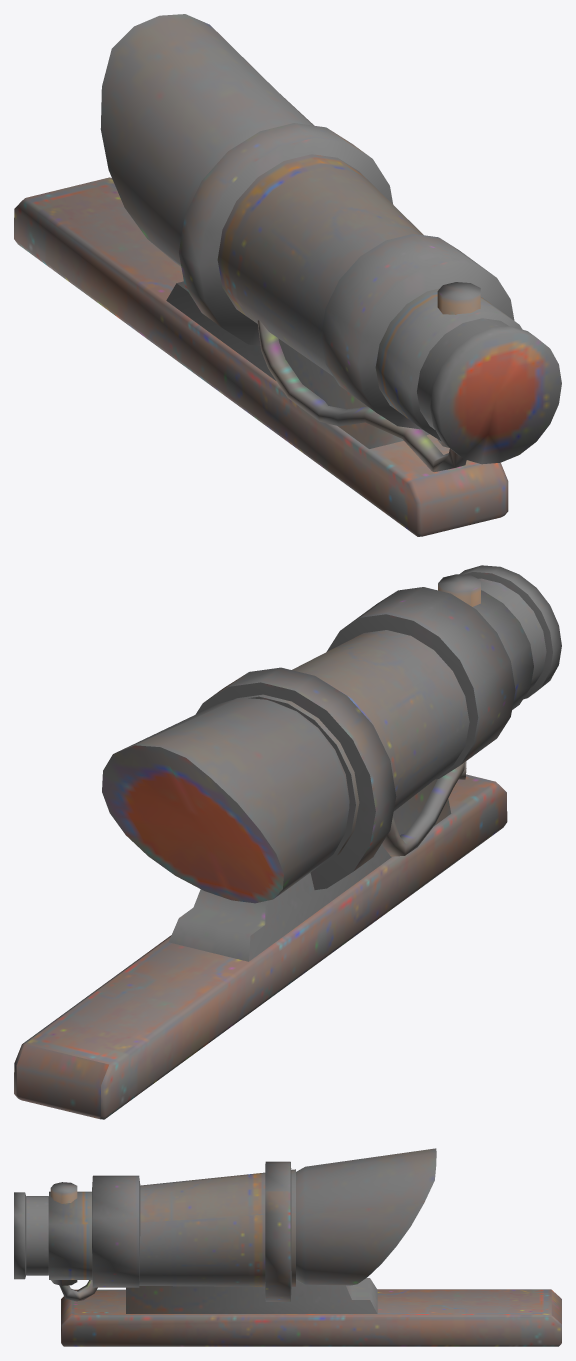
The model's file is sight5.obj.
3 views of the same model, one above another, from view 1: azimuth 30°, elevation 25°; view 2: azimuth 150°, elevation 25°; view 3: azimuth 270°, elevation 25° (orthographic). The views are drawn at different scales.
Parts seen in each view (by area): view 1: sight5; view 2: sight5; view 3: sight5.
Boxes of the visible parts, left/top/right/bottom form: sight5: left=14, top=14, right=561, bottom=536; sight5: left=14, top=565, right=561, bottom=1119; sight5: left=14, top=1148, right=561, bottom=1346.
Size of the model in its own units: 5.67 by 8.01 by 22.1.
